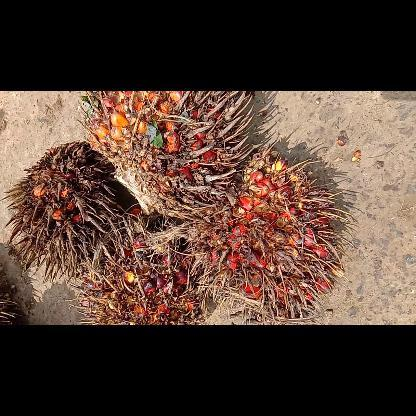Terlalu masak: (184, 140, 354, 324), (75, 91, 258, 231), (0, 137, 135, 286), (77, 212, 209, 324)
